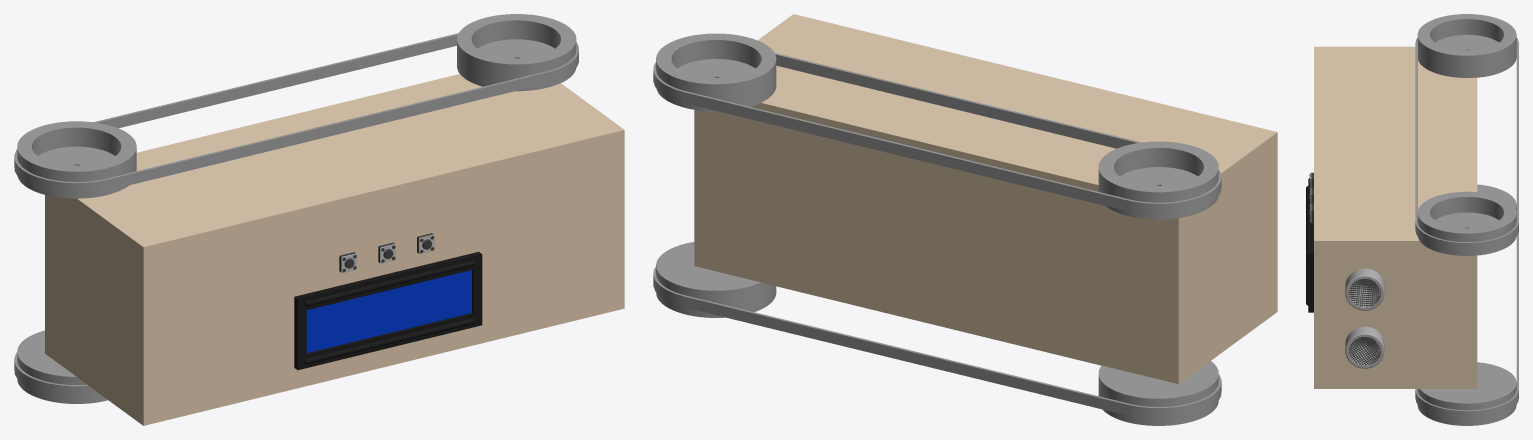
File: theAlarmClock3d.fbx
3 views of the same model, side by side, from view 1: azimuth 30°, elevation 25°; view 2: azimuth 150°, elevation 25°; view 3: azimuth 270°, elevation 25° (orthographic). The views are drawn at different scales.
Visible parts, largest first — view 1: Body4, Body3, Body1 (×5), Body5, Body11, Body2, Body10; view 2: Body1 (×5), Body3, Body5, Body11, Body10, Body2, Body4; view 3: Body3, Body1 (×9), Body6, Body11, Body2 (×2), Body4, Body10.
Part boxes in pixels (x1,y1,x2,y2): Body4: [139, 126, 624, 425]; Body3: [66, 74, 624, 255]; Body1 (×5): [17, 14, 576, 403]; Body5: [49, 196, 138, 414]; Body11: [14, 33, 578, 193]; Body2: [45, 301, 624, 425]; Body10: [14, 352, 100, 396]; Body1 (×5): [656, 33, 1218, 425]; Body3: [751, 14, 1277, 191]; Body5: [1183, 144, 1273, 372]; Body11: [653, 53, 1221, 214]; Body10: [653, 266, 1221, 418]; Body2: [694, 259, 1277, 383]; Body4: [790, 14, 1277, 306]; Body3: [1314, 46, 1477, 247]; Body1 (×9): [1306, 14, 1516, 425]; Body6: [1321, 248, 1469, 382]; Body11: [1415, 27, 1518, 251]; Body2 (×2): [1314, 268, 1477, 388]; Body4: [1314, 47, 1321, 388]; Body10: [1415, 231, 1518, 420].
Size of the model in its own units: 212 by 85.8 by 86.07.
